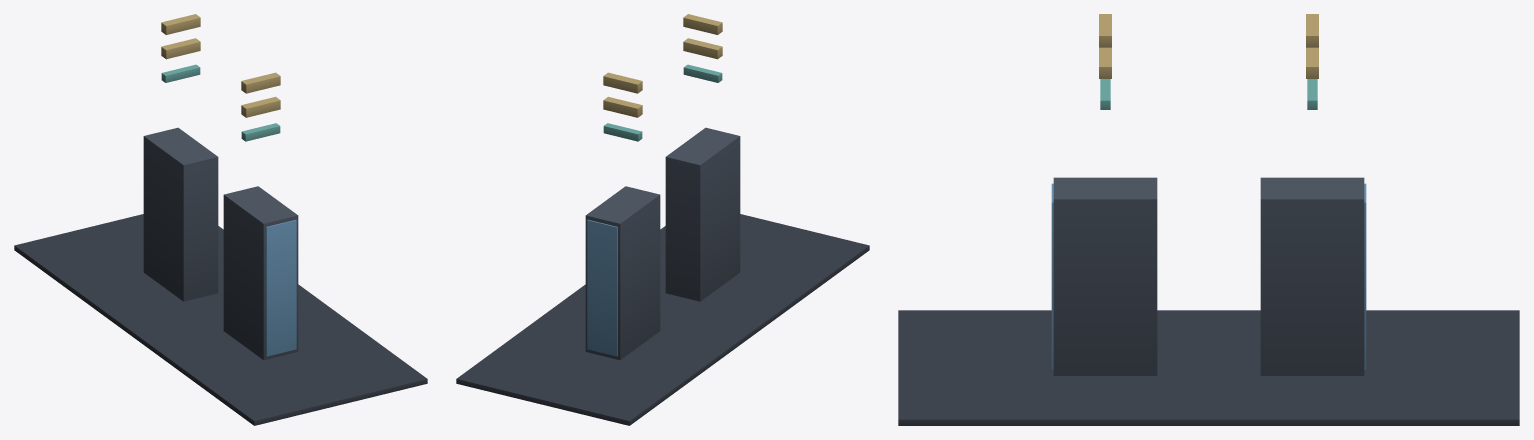
File: hgx-b300.glb
3 renders of one model, left to right at view 1: azimuth 30°, elevation 25°; view 2: azimuth 150°, elevation 25°; view 3: azimuth 270°, elevation 25°, orthographic. The views are drawn at different scales.
Visible parts, largest first — view 1: floor, rack-B1, rack-A1, rack-A1-door, busway-A2, busway-A1, busway-B2, busway-B1, tcs-main-A, tcs-main-B; view 2: floor, rack-A1, rack-B1, rack-B1-door, busway-B2, busway-A2, busway-B1, busway-A1, tcs-main-A, tcs-main-B; view 3: floor, rack-A1, rack-B1.
Boxes of the visible parts, bbox=[...] form: floor: bbox=[14, 214, 427, 425]; rack-B1: bbox=[143, 127, 218, 301]; rack-A1: bbox=[223, 186, 298, 360]; rack-A1-door: bbox=[266, 219, 296, 356]; busway-A2: bbox=[241, 72, 280, 93]; busway-A1: bbox=[241, 96, 280, 117]; busway-B2: bbox=[161, 14, 200, 34]; busway-B1: bbox=[161, 38, 200, 59]; tcs-main-A: bbox=[241, 123, 280, 141]; tcs-main-B: bbox=[161, 64, 200, 82]; floor: bbox=[456, 214, 869, 425]; rack-A1: bbox=[665, 127, 740, 301]; rack-B1: bbox=[585, 186, 660, 360]; rack-B1-door: bbox=[587, 219, 617, 356]; busway-B2: bbox=[603, 72, 642, 93]; busway-A2: bbox=[683, 14, 722, 34]; busway-B1: bbox=[603, 96, 642, 117]; busway-A1: bbox=[683, 38, 722, 59]; tcs-main-A: bbox=[683, 64, 722, 82]; tcs-main-B: bbox=[603, 123, 642, 141]; floor: bbox=[898, 310, 1519, 425]; rack-A1: bbox=[1053, 177, 1157, 375]; rack-B1: bbox=[1260, 177, 1364, 375].
Bounding box in the file's own units: 3 × 4.43 × 7.2.
